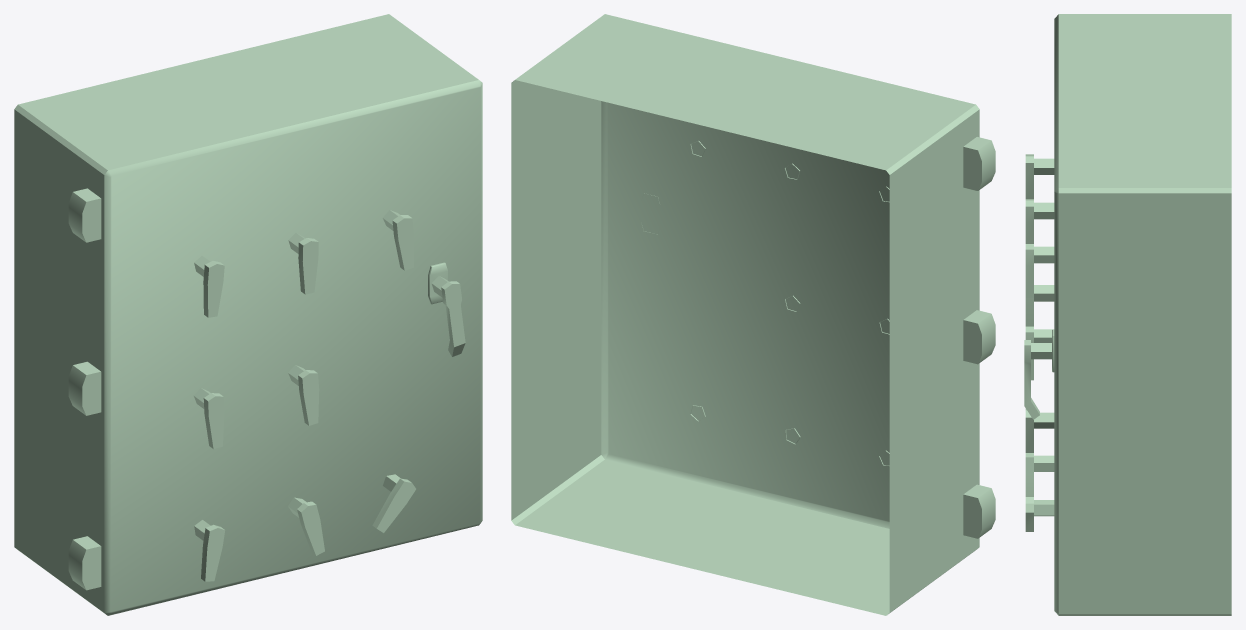
The model's file is breakerbox2.fbx.
3 views of the same model, side by side, from view 1: azimuth 30°, elevation 25°; view 2: azimuth 150°, elevation 25°; view 3: azimuth 270°, elevation 25° (orthographic). The views are drawn at different scales.
Visible parts, largest first — view 1: AA_BreakerBoxGroup_09_TCH_SMesh; view 2: AA_BreakerBoxGroup_09_TCH_SMesh; view 3: AA_BreakerBoxGroup_09_TCH_SMesh.
Boxes of the visible parts, x1=… form: AA_BreakerBoxGroup_09_TCH_SMesh: x1=14, y1=14, x2=482, y2=615; AA_BreakerBoxGroup_09_TCH_SMesh: x1=511, y1=14, x2=995, y2=615; AA_BreakerBoxGroup_09_TCH_SMesh: x1=1024, y1=14, x2=1231, y2=615.
Size of the model in its own units: 615 by 659 by 290.
